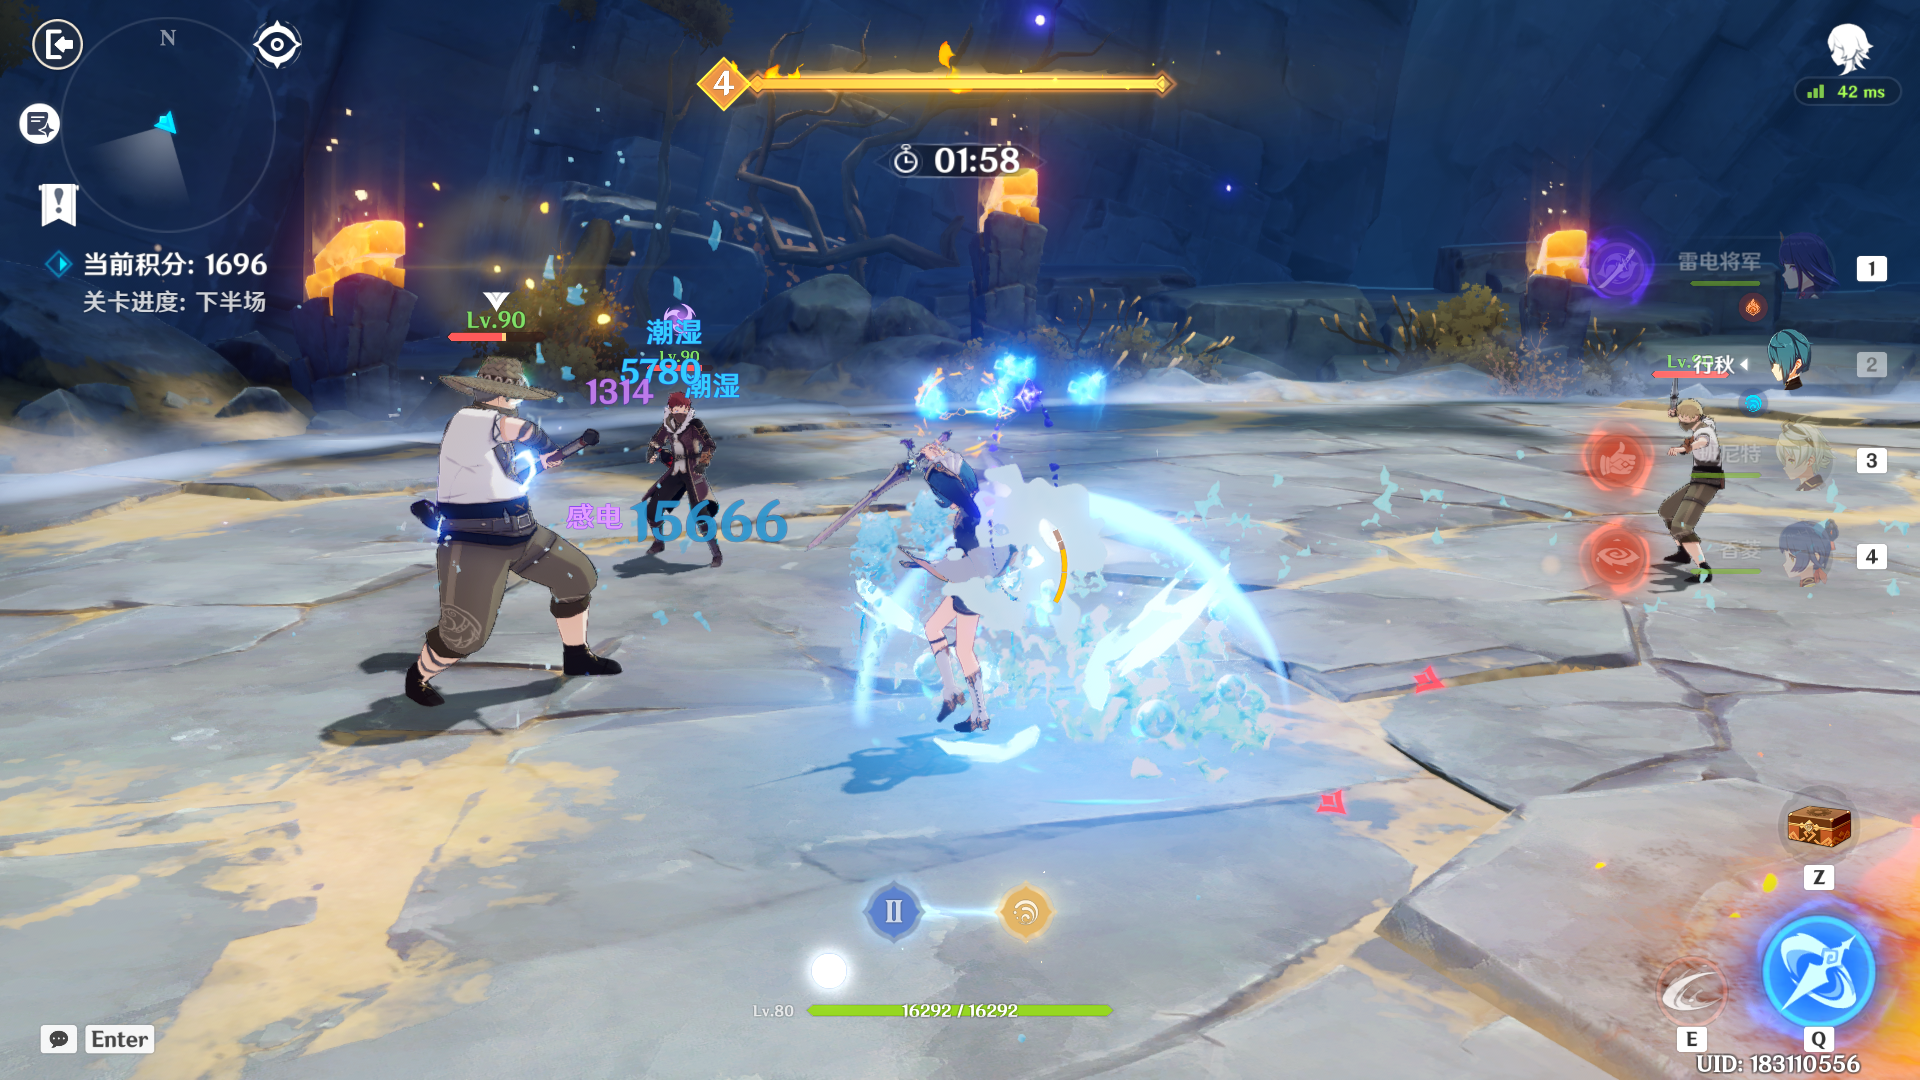character: (866, 367, 1079, 824)
robber: (365, 327, 663, 750)
